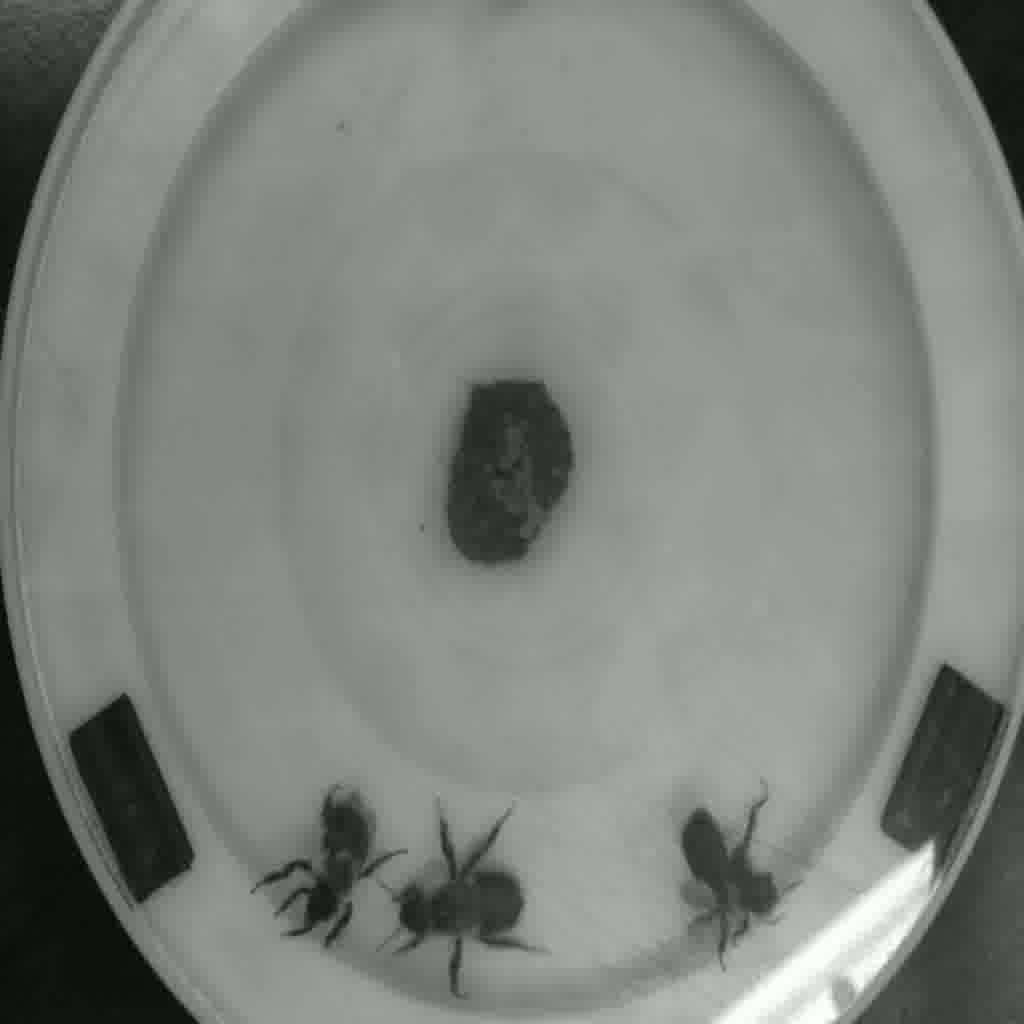bee: (395, 843, 531, 970), (283, 794, 383, 947), (667, 820, 796, 919)
